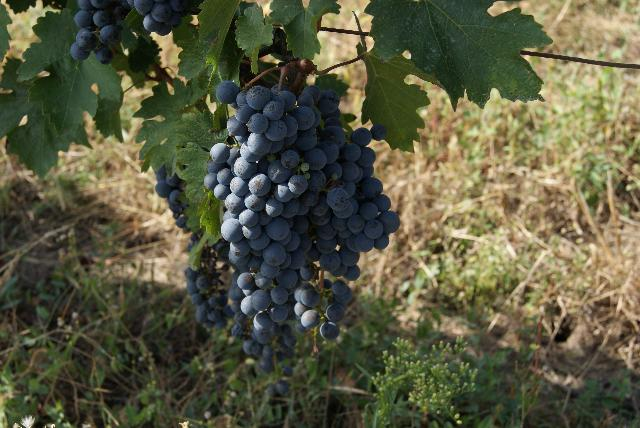grapes: (204, 81, 399, 372)
